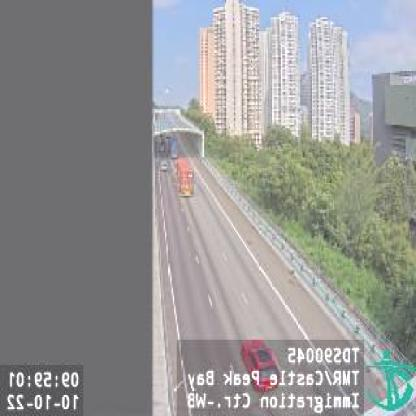Car: (238, 341, 282, 391)
Truck: (175, 156, 194, 197)
